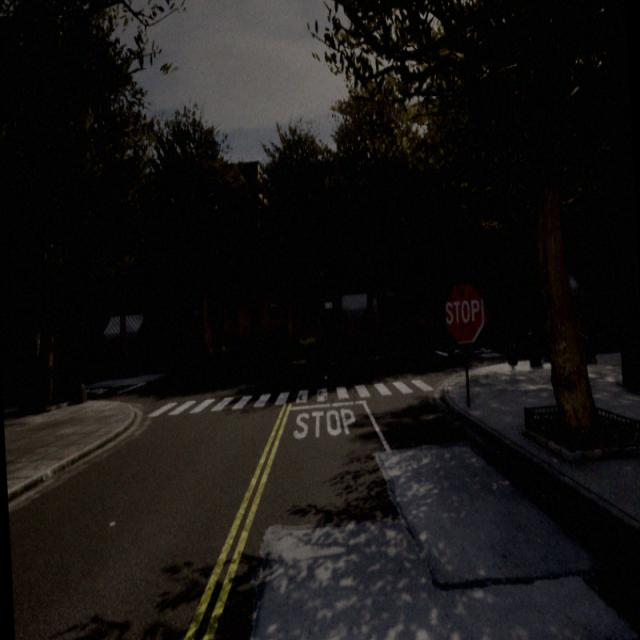stop sign: (442, 280, 486, 346), (444, 296, 481, 326)
